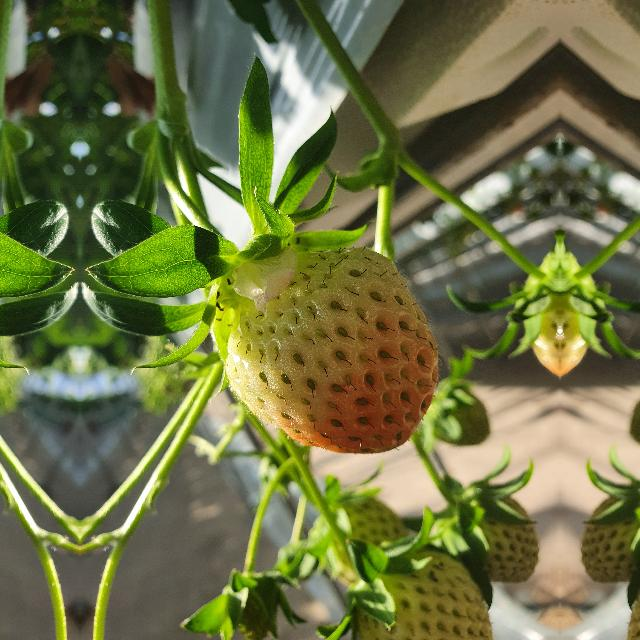Health_50: (225, 247, 438, 453)
